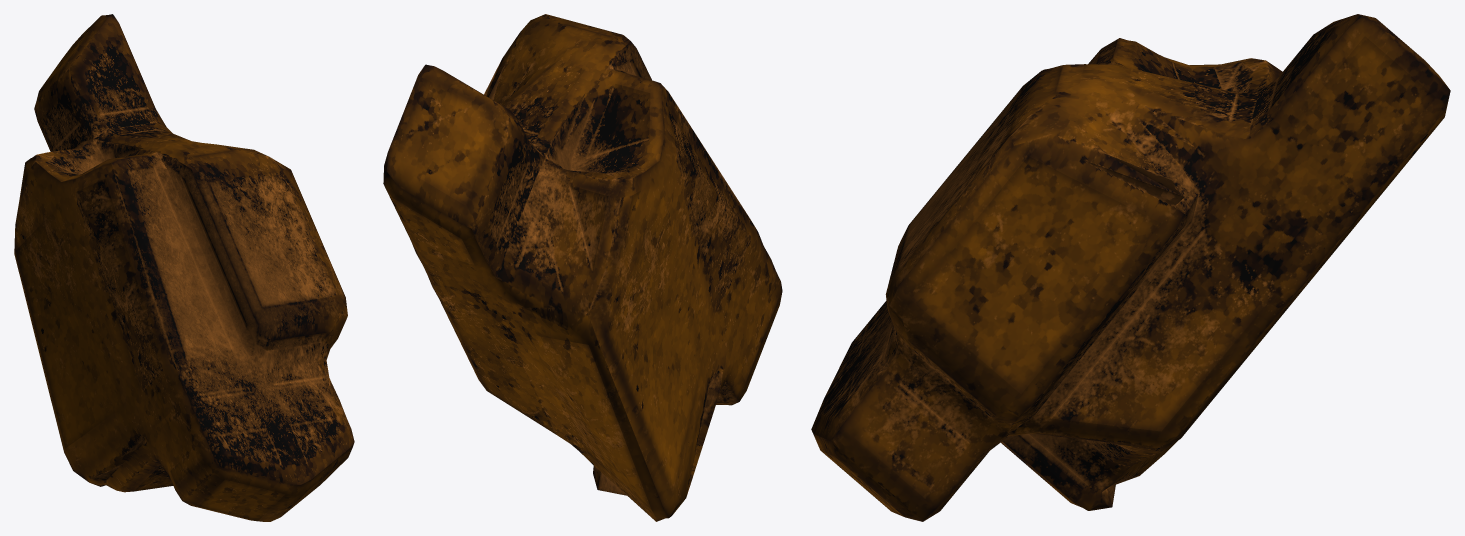
The model's file is boulder 1 mk2.fbx.
3 views of the same model, side by side, from view 1: azimuth 30°, elevation 25°; view 2: azimuth 150°, elevation 25°; view 3: azimuth 270°, elevation 25° (orthographic). The views are drawn at different scales.
Parts seen in each view (by area): view 1: Boulders_2_1; view 2: Boulders_2_1; view 3: Boulders_2_1.
Part boxes in pixels (box(x1,y1,x2,y2)): Boulders_2_1: box(14, 14, 354, 521); Boulders_2_1: box(383, 14, 782, 521); Boulders_2_1: box(811, 14, 1450, 521).
Bounding box in the file's own units: 13.44 × 27.02 × 30.03.
